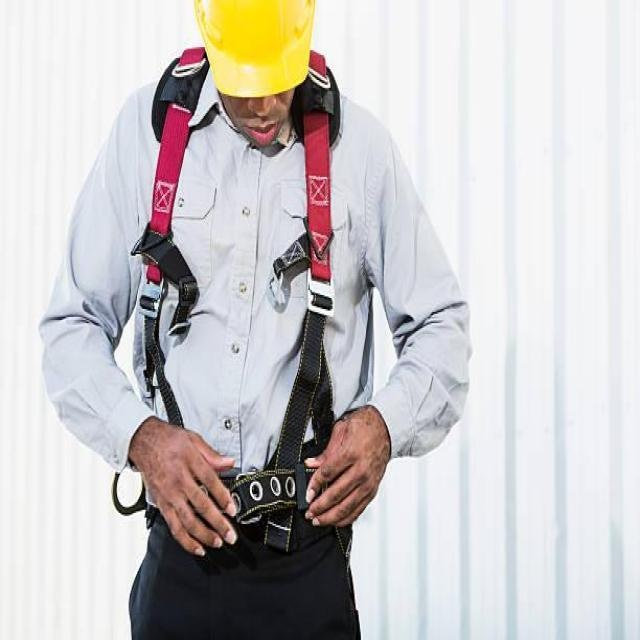Arnes_seguridad: (132, 41, 380, 559)
